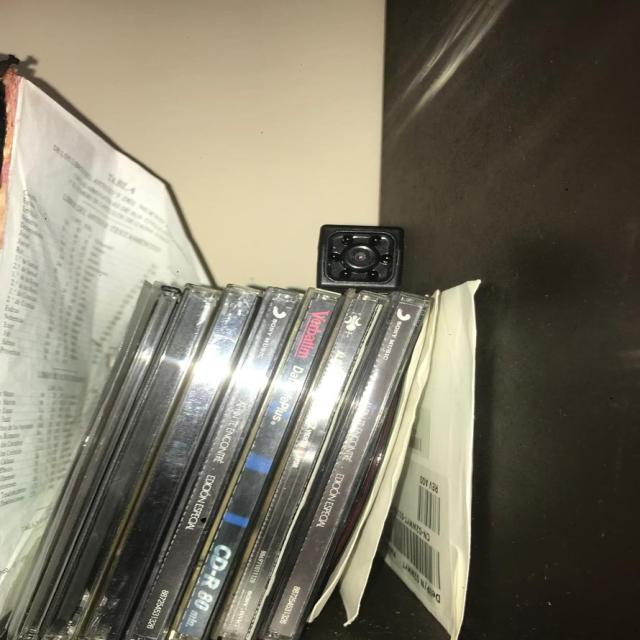hidden camera: (343, 245, 376, 270)
